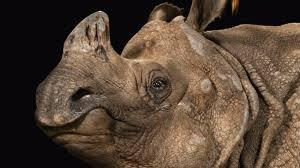Rhinoceroses: (35, 0, 299, 167)
